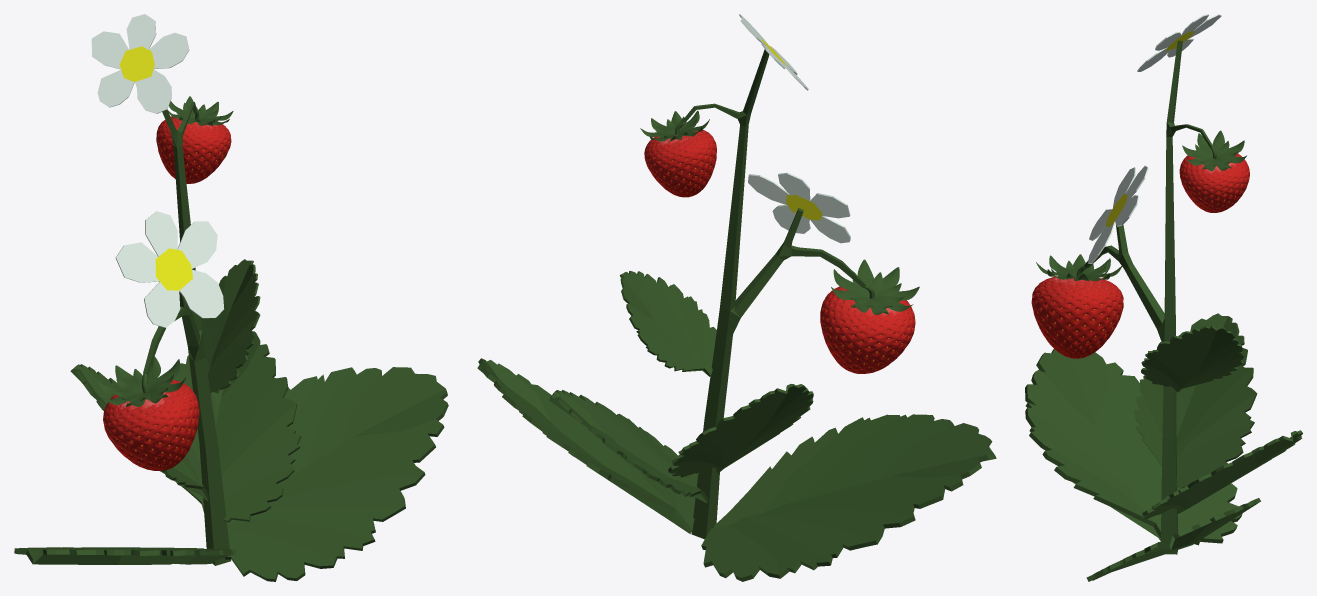
Rendered from wild-strawberry.fbx.
3 renders of one model, left to right at view 1: azimuth 30°, elevation 25°; view 2: azimuth 150°, elevation 25°; view 3: azimuth 270°, elevation 25°, orthographic. The views are drawn at different scales.
Visible parts, largest first — view 1: Plane.003, strawberry.001, strawberry.002; view 2: Plane.003, strawberry.001, strawberry.002; view 3: Plane.003, strawberry.001, strawberry.002.
Part boxes in pixels (box(x1,y1,x2,y2)): Plane.003: box(14, 14, 448, 581); strawberry.001: box(98, 356, 199, 470); strawberry.002: box(156, 96, 233, 183); Plane.003: box(477, 14, 996, 581); strawberry.001: box(820, 259, 919, 373); strawberry.002: box(640, 110, 716, 197); Plane.003: box(1025, 14, 1302, 581); strawberry.001: box(1031, 254, 1123, 358); strawberry.002: box(1179, 130, 1249, 212).
Size of the model in its own units: 261 by 294 by 143.
